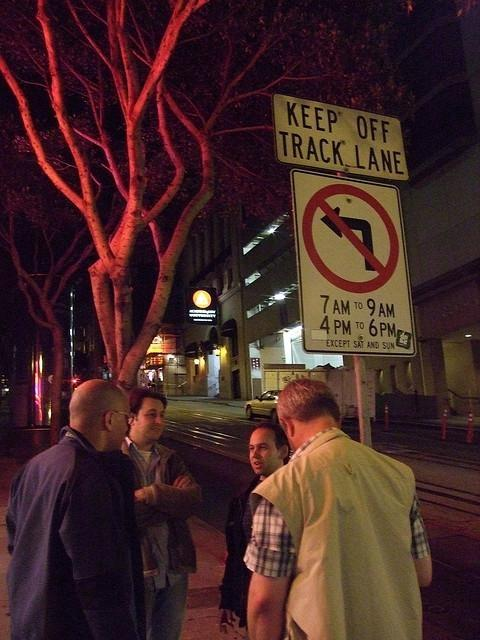car: (245, 390, 281, 420)
